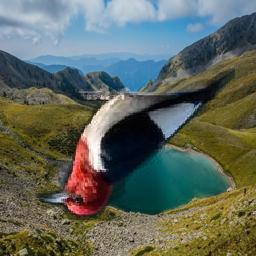Woodpecker: (33, 66, 235, 221)
